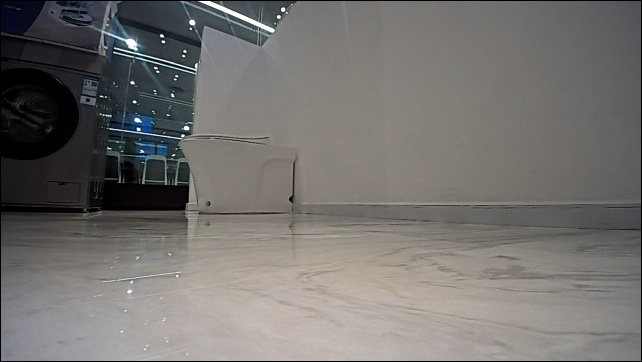toilet: (180, 132, 301, 216)
washing_machine: (0, 36, 108, 217)
